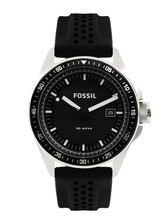watch: (26, 10, 157, 213)
